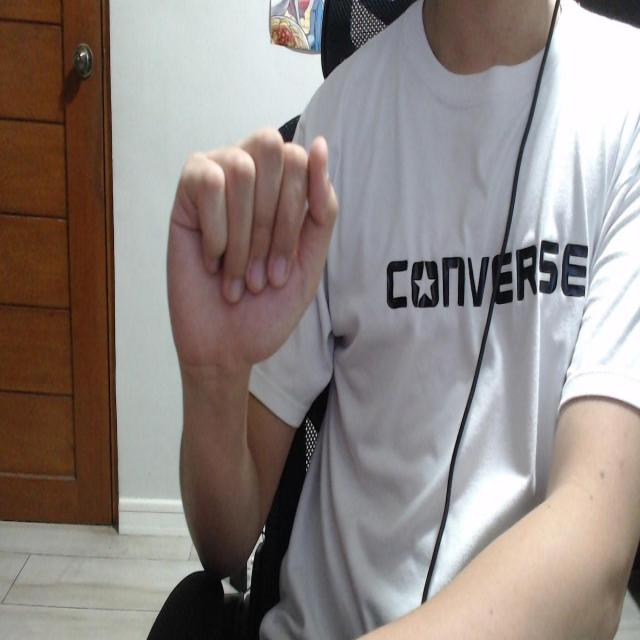A: (166, 130, 338, 362)
